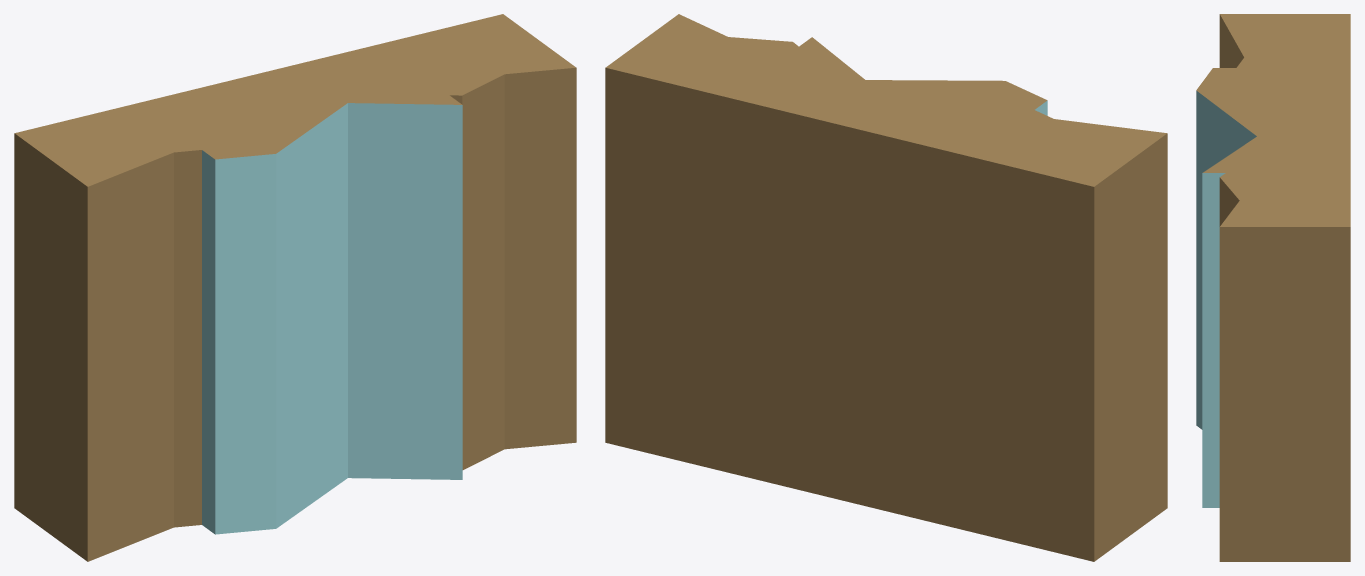
Rendered from naturePack_126.obj.
3 renders of one model, left to right at view 1: azimuth 30°, elevation 25°; view 2: azimuth 150°, elevation 25°; view 3: azimuth 270°, elevation 25°, orthographic. The views are drawn at different scales.
Visible parts, largest first — view 1: Mesh1_Brown_Waterfall_Model; view 2: Mesh1_Brown_Waterfall_Model; view 3: Mesh1_Brown_Waterfall_Model.
Part boxes in pixels (x1=…): Mesh1_Brown_Waterfall_Model: x1=14, y1=14, x2=576, y2=561; Mesh1_Brown_Waterfall_Model: x1=605, y1=14, x2=1167, y2=561; Mesh1_Brown_Waterfall_Model: x1=1196, y1=14, x2=1350, y2=561.
Size of the model in its own units: 3 by 2.2 by 0.92.
